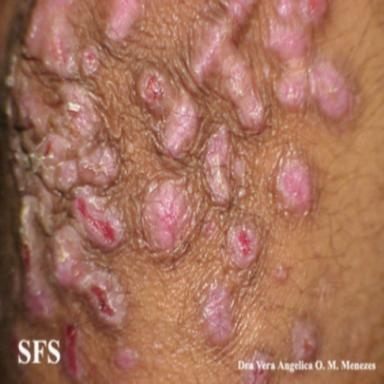Epidermolysis-Bullosa-Pruriginosa: (10, 2, 127, 327), (189, 1, 265, 133), (268, 2, 351, 120), (137, 66, 199, 158), (203, 124, 253, 207), (142, 180, 191, 250), (275, 156, 313, 216), (203, 286, 233, 345), (227, 226, 259, 268), (107, 0, 139, 41), (64, 323, 83, 381), (292, 319, 317, 360), (115, 346, 139, 370)
